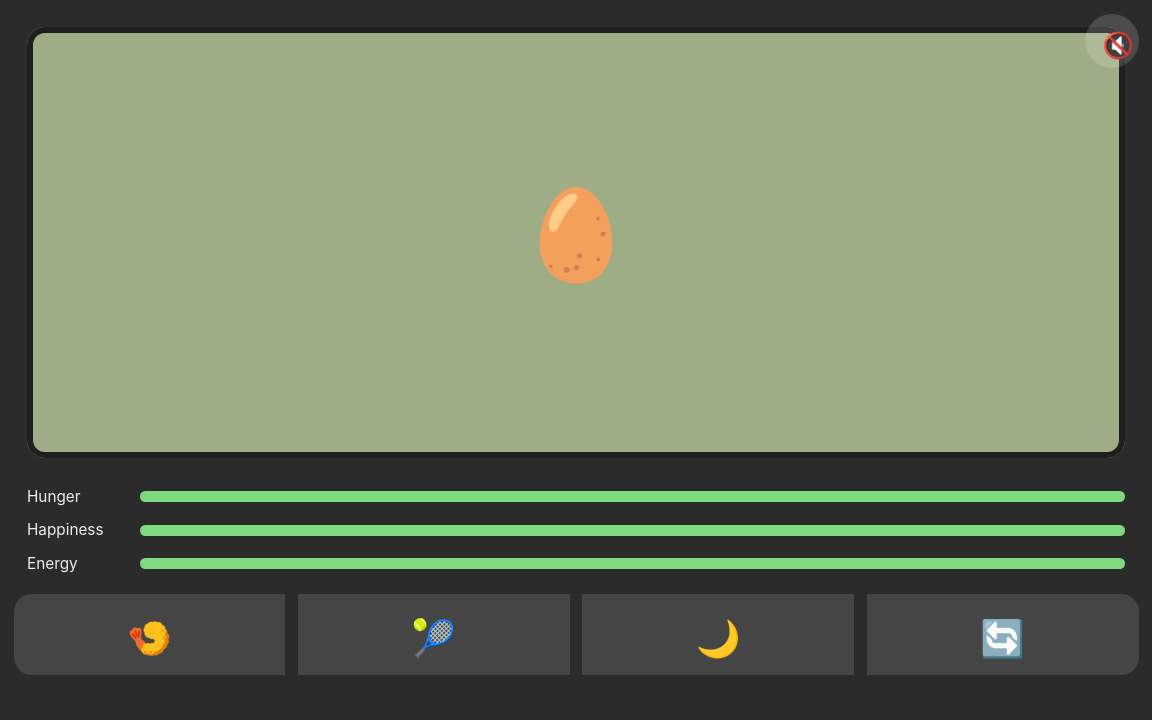
Tamagotchi page › toggling sleep flips the button label and persisted state
Click the button named "Sleep" at [718, 634], box [582,594,854,675]
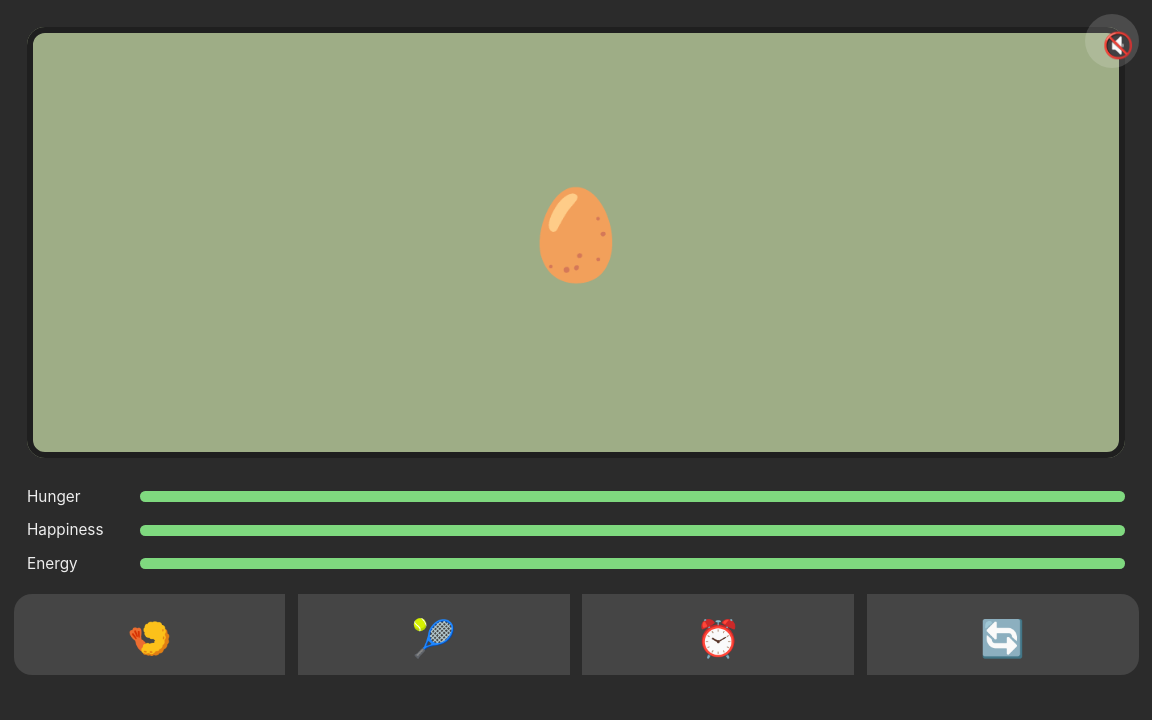
Expected: the button named "Wake" is shown, [582,594,854,675]
